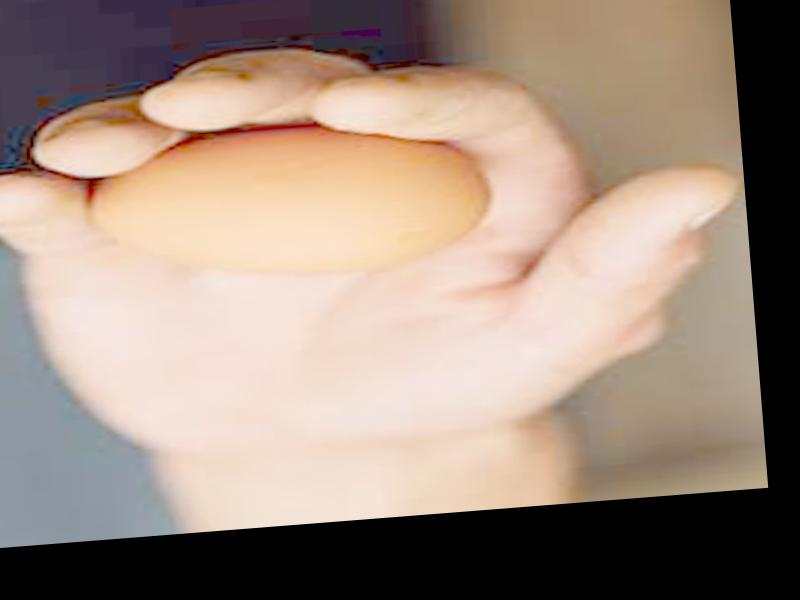Eggs: (83, 118, 491, 290)
